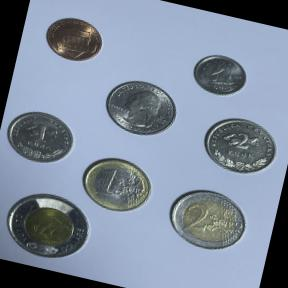coin: (0, 184, 96, 270), (158, 180, 258, 262), (194, 108, 284, 184), (96, 72, 186, 145), (74, 150, 158, 220), (37, 10, 109, 70), (186, 48, 254, 104)
